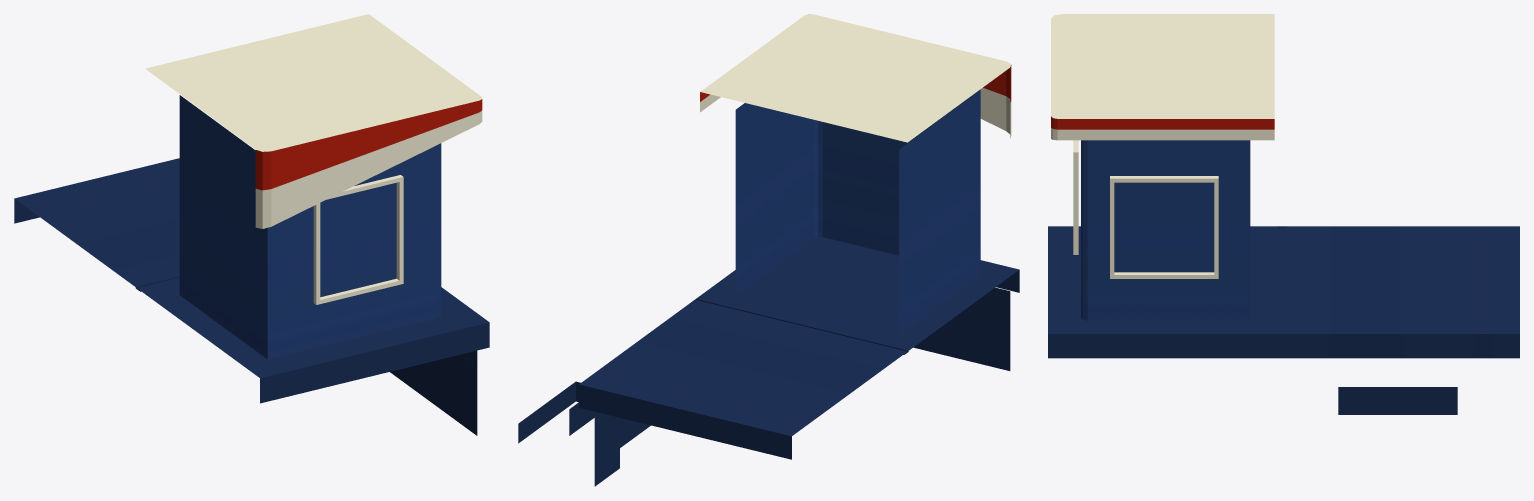
File: Base_Leme.glb
3 renders of one model, left to right at view 1: azimuth 30°, elevation 25°; view 2: azimuth 150°, elevation 25°; view 3: azimuth 270°, elevation 25°, orthographic. The views are drawn at different scales.
Parts seen in each view (by area): view 1: Base_Leme; view 2: Base_Leme; view 3: Base_Leme.
Part boxes in pixels (x1,y1,x2,y2): Base_Leme: (14, 14, 489, 435); Base_Leme: (518, 14, 1019, 486); Base_Leme: (1048, 14, 1519, 414).
Bounding box in the file's own units: 6.16 × 6 × 8.
1 material, 1 textured.
